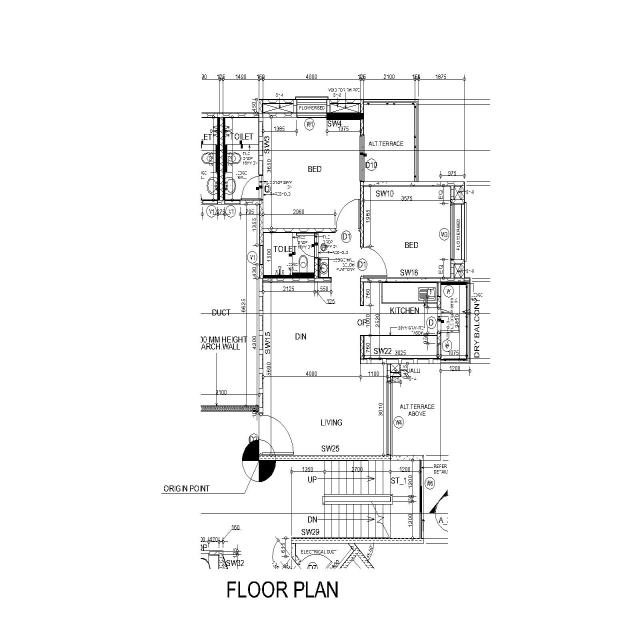Column: (262, 270, 316, 280), (326, 112, 365, 121)
Door: (257, 410, 265, 456), (359, 133, 366, 185), (359, 243, 366, 281), (313, 230, 320, 260), (333, 227, 362, 234), (436, 306, 443, 334), (258, 172, 264, 201)
Opening: (359, 304, 365, 336), (330, 276, 362, 282)
Staircase: (291, 460, 421, 541)
Ventilator: (258, 243, 264, 266)
Window: (386, 379, 392, 457), (449, 204, 457, 262), (420, 458, 424, 541), (294, 112, 328, 120), (436, 343, 442, 359), (436, 294, 442, 308)
